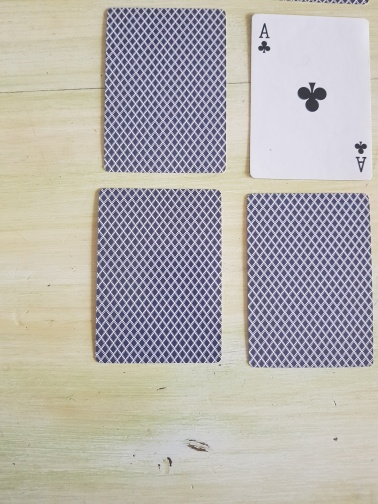ace: (248, 13, 373, 181)
